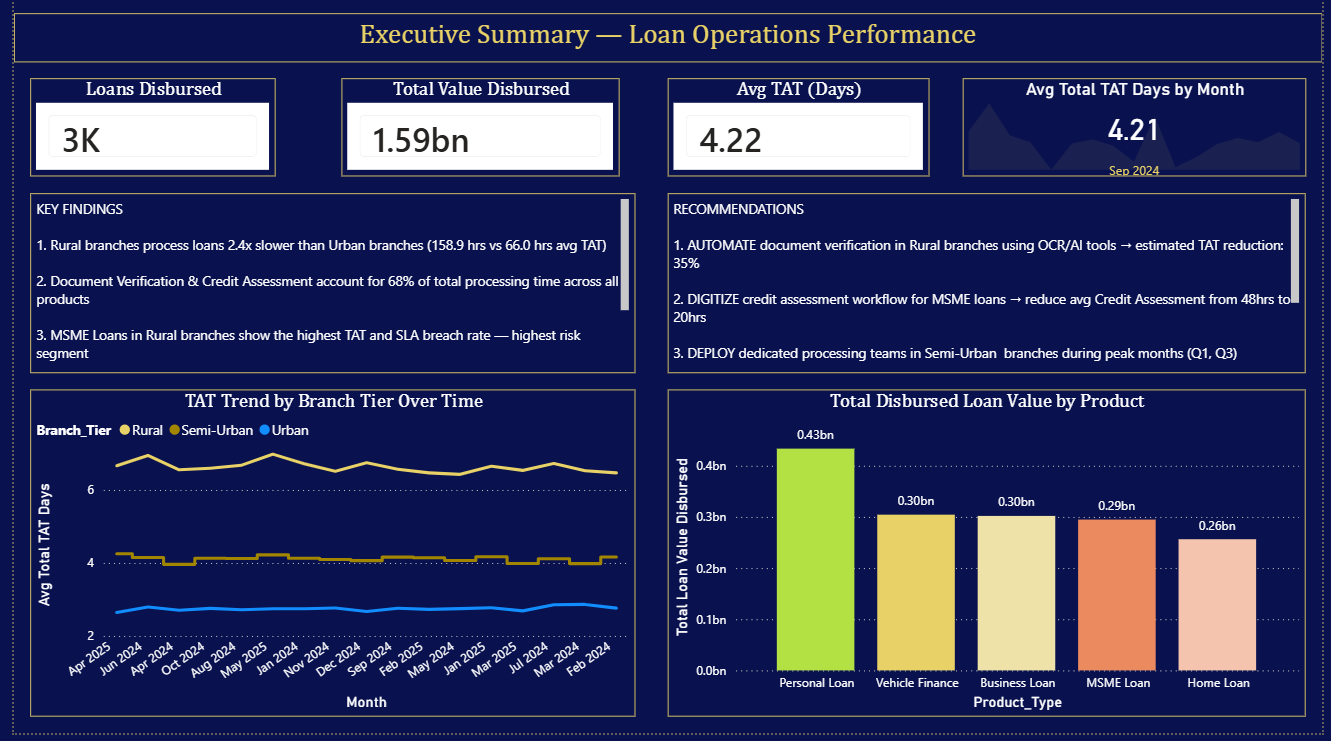

The dashboard page shown, as its layout file describes it:
{"tool":"powerbi","page":{"name":"Executive Summary","canvas":[1280,720],"ordinal":2},"visuals":[{"type":"textbox","box":[0,16,1280,48],"z":0},{"type":"cardVisual","title":"Loans Disbursed","fields":{"Data":["AU_Bank_Loan_Operations_Data.Total Disbursed"]},"box":[16,80,240,96],"z":1000},{"type":"cardVisual","title":"Total Value Disbursed","fields":{"Data":["AU_Bank_Loan_Operations_Data.Total Loan Value Disbursed"]},"box":[320,80,272,96],"z":2000},{"type":"cardVisual","title":"Avg TAT (Days)","fields":{"Data":["AU_Bank_Loan_Operations_Data.Avg Total TAT Days"]},"box":[640,80,256,96],"z":3000},{"type":"textbox","box":[16,192,592,176],"z":4000},{"type":"textbox","box":[640,192,624,176],"z":5000},{"type":"lineChart","title":"TAT Trend by Branch Tier Over Time","fields":{"Category":["DateTable.Month"],"Y":["AU_Bank_Loan_Operations_Data.Avg Total TAT Days"],"Series":["AU_Bank_Loan_Operations_Data.Branch_Tier"]},"box":[16,384,592,320],"z":6000},{"type":"clusteredColumnChart","title":"Total Disbursed Loan Value by Product ","fields":{"Category":["AU_Bank_Loan_Operations_Data.Product_Type"],"Y":["AU_Bank_Loan_Operations_Data.Total Loan Value Disbursed"]},"box":[640,384,624,320],"z":7000},{"type":"kpi","fields":{"Indicator":["AU_Bank_Loan_Operations_Data.Avg Total TAT Days"],"TrendLine":["DateTable.Month"]},"box":[928,80,336,96],"z":8000}]}

Visuals, with their boxes in screenshot pixels (x1, y1, x2, y2), scaled from the page's 1280x720 canvas onto the 1331x741 screenshot:
textbox: x1=0, y1=16, x2=1330, y2=66
"Loans Disbursed" cardVisual: x1=17, y1=82, x2=266, y2=181
"Total Value Disbursed" cardVisual: x1=333, y1=82, x2=616, y2=181
"Avg TAT (Days)" cardVisual: x1=666, y1=82, x2=932, y2=181
textbox: x1=17, y1=198, x2=632, y2=379
textbox: x1=666, y1=198, x2=1314, y2=379
"TAT Trend by Branch Tier Over Time" lineChart: x1=17, y1=395, x2=632, y2=725
"Total Disbursed Loan Value by Product " clusteredColumnChart: x1=666, y1=395, x2=1314, y2=725
kpi - AU_Bank_Loan_Operations_Data.Avg Total TAT Days x DateTable.Month: x1=965, y1=82, x2=1314, y2=181
